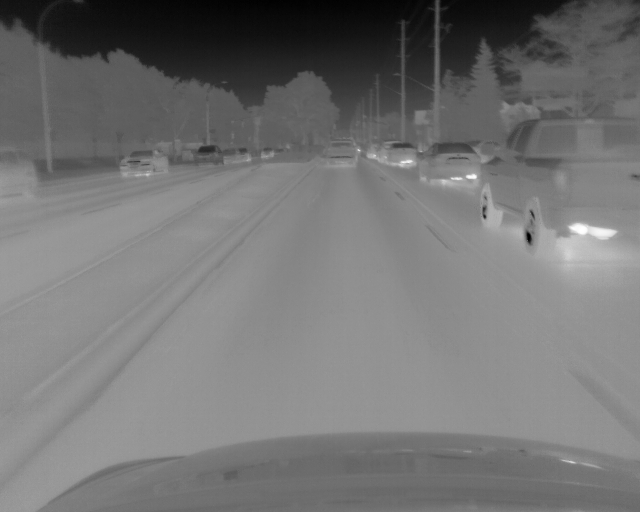car: (478, 115, 640, 257), (419, 142, 479, 183), (1, 147, 38, 201), (118, 149, 169, 177), (323, 139, 357, 166), (386, 141, 416, 167), (193, 144, 225, 166), (231, 147, 251, 162), (376, 140, 388, 162), (261, 147, 275, 159)
